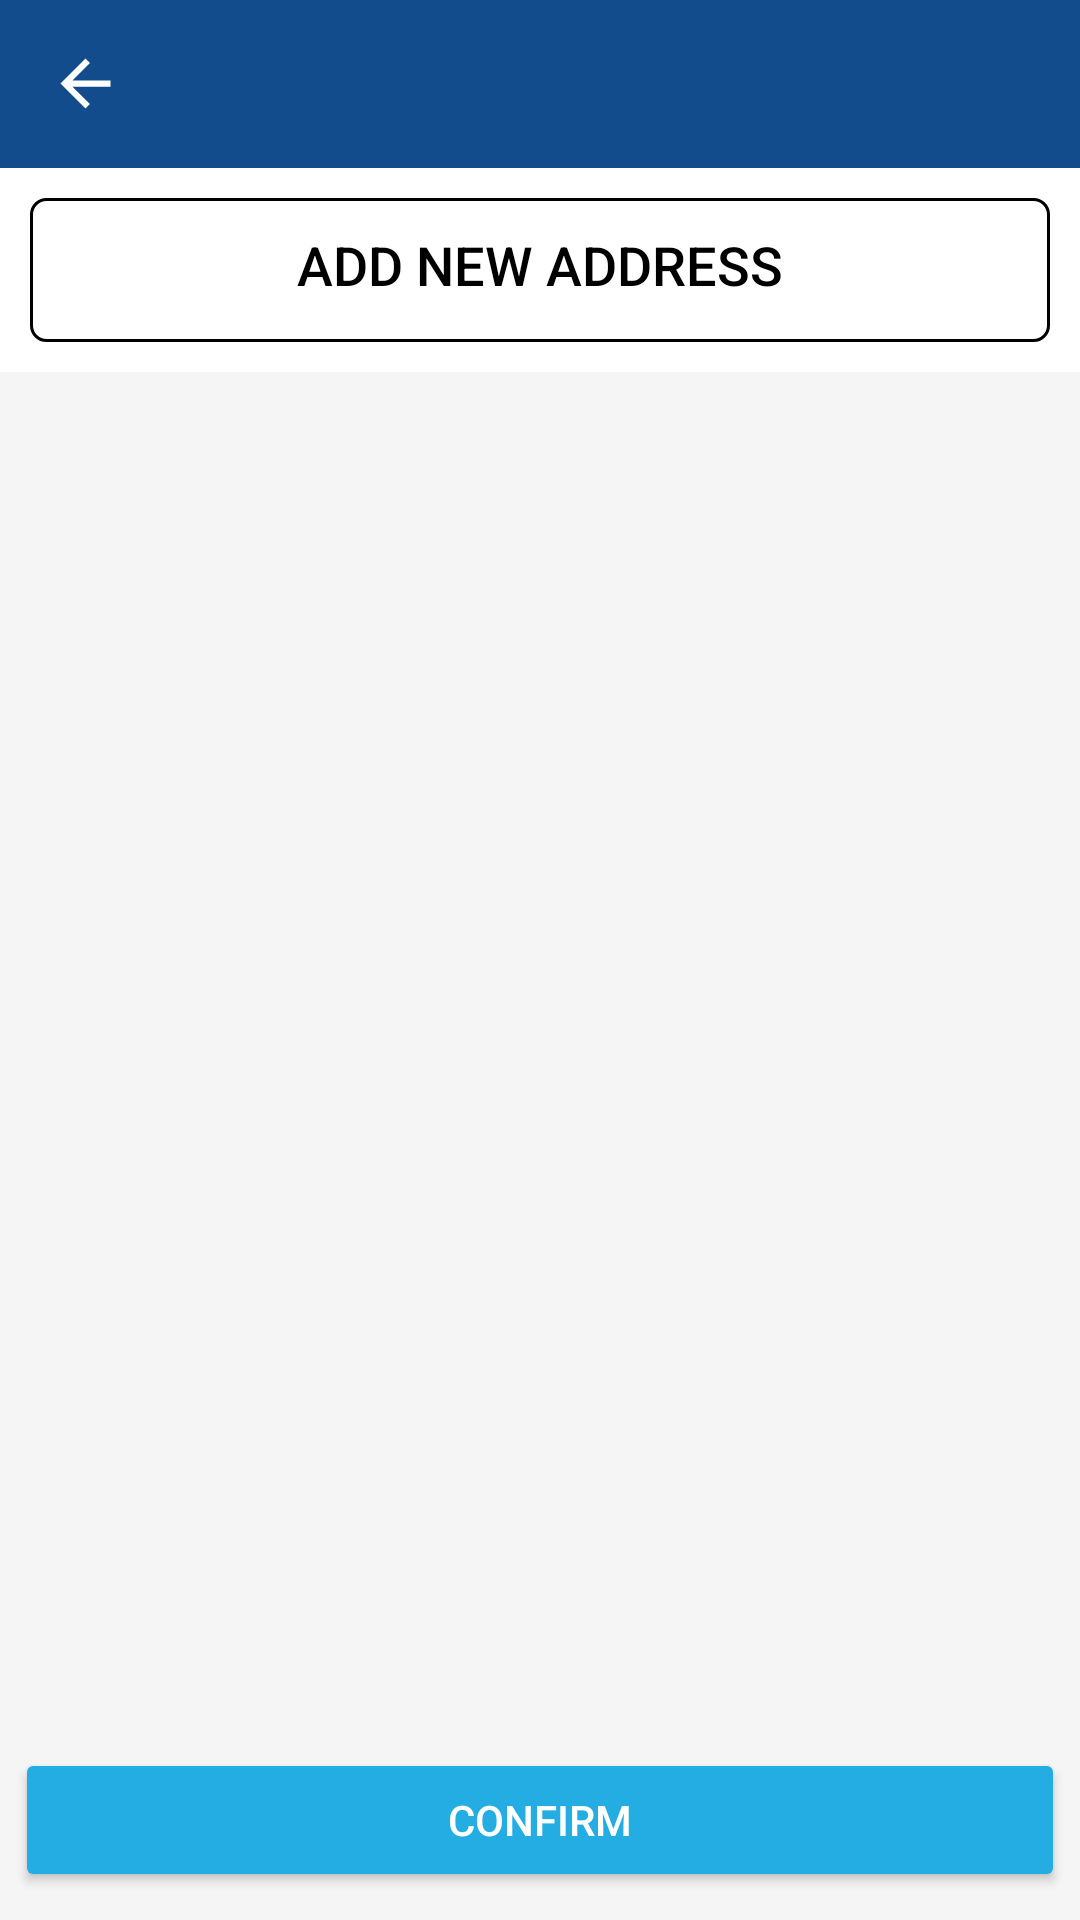

Where icons sit on this 1080*1920 app screen, as box=[x1, y1, x2, y2]:
arrow: box=[60, 58, 111, 109]
